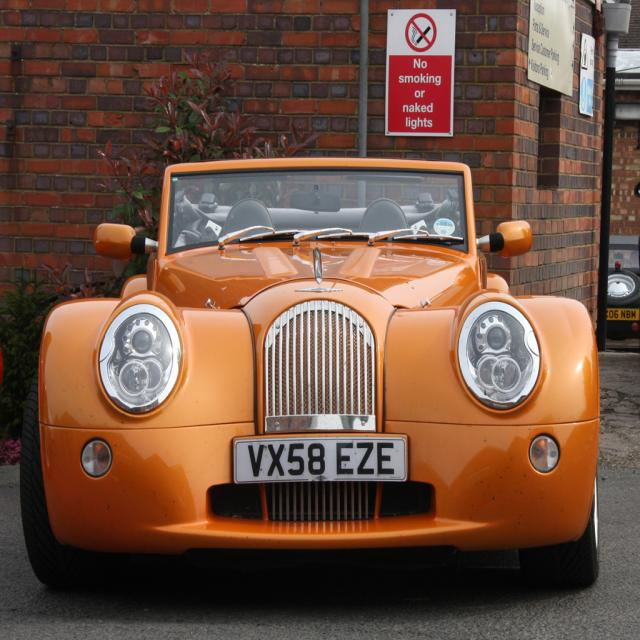other: (31, 151, 583, 585), (604, 235, 639, 341)
